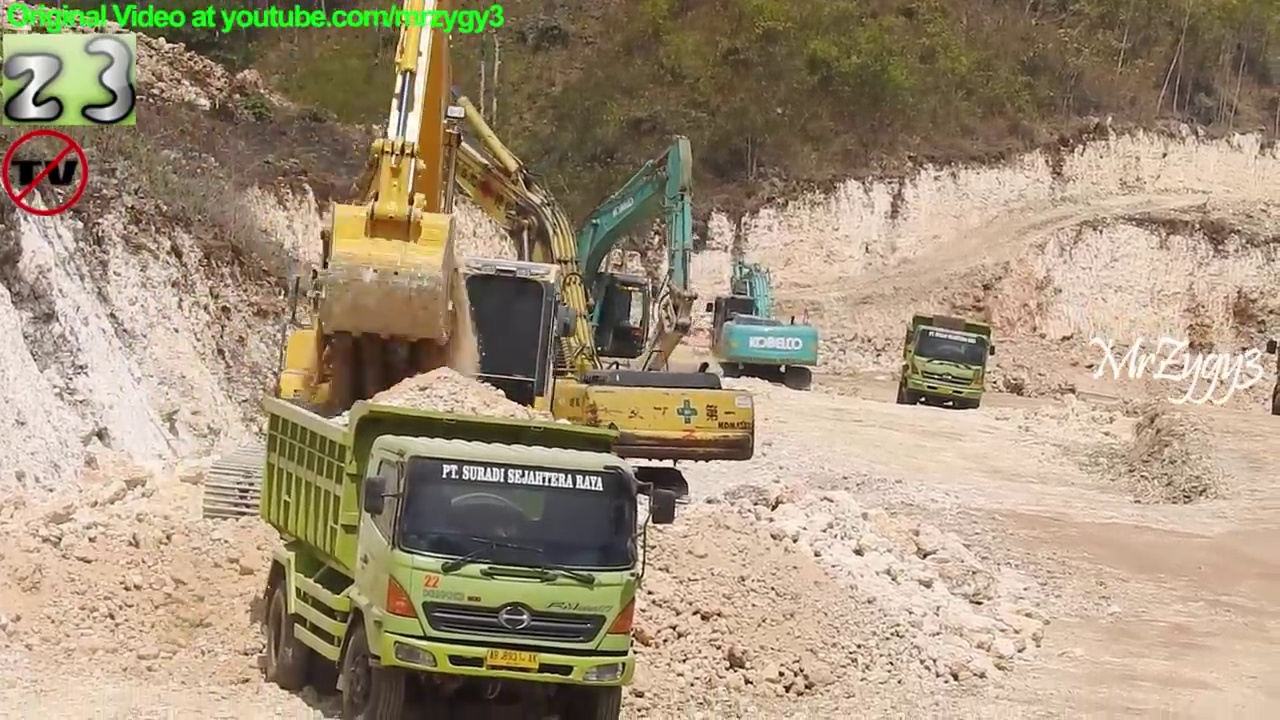excavator: (199, 1, 658, 537), (346, 83, 758, 533), (507, 126, 723, 433), (706, 205, 822, 400)
truck: (257, 390, 680, 720), (892, 309, 1000, 414)
